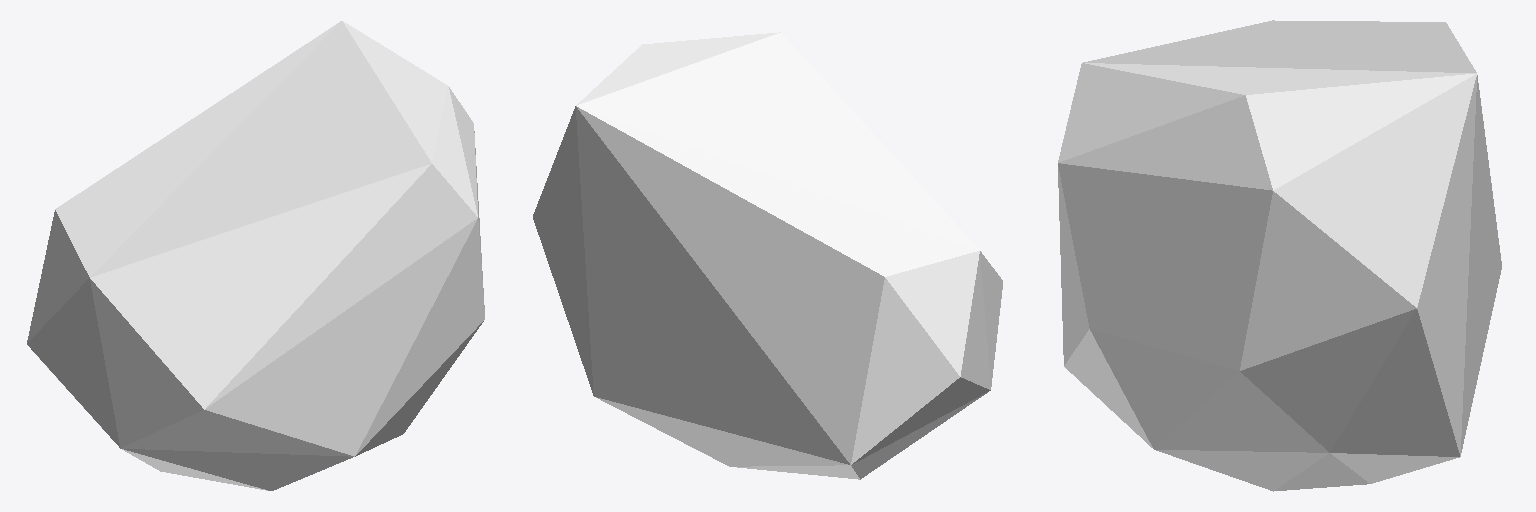
The robot description file, URDF, robot "hrp2_rleg_rom":
<robot name="hrp2_rleg_rom">
  <link name="base_link">
    <visual>
      <origin xyz="0 0 0" rpy="0 0 0.003" />
      <geometry>
        <mesh filename="package://hpp-rbprm-corba/meshes/hrp2_rleg_rom.stl"/>
      </geometry>
      <material name="white">
        <color rgba="1 1 1 1"/>
      </material>
    </visual>
    <collision>
      <origin xyz="0 0 0" rpy="0 0 0.003" />
      <geometry>
        <mesh filename="package://hpp-rbprm-corba/meshes/hrp2_rleg_rom.stl"/>
      </geometry>
    </collision>
  </link>
</robot>

--- What the picture shows (computed from the rendered views, not written in the file) ---
The picture shows the robot from 3 angles, left to right: view 1: azimuth 30°, elevation 25°; view 2: azimuth 150°, elevation 25°; view 3: azimuth 270°, elevation 25°; orthographic projection.
Robot: hrp2_rleg_rom — 1 links, 0 joints (none); root link base_link; default pose: all joints at 0.
Links seen in each view (by area): view 1: base_link; view 2: base_link; view 3: base_link.
Link boxes in pixels (x1,y1,x2,y2): base_link: (27,21,484,490); base_link: (533,32,1002,479); base_link: (1058,20,1501,491).
Bounding box of the posed robot: 1.26 × 0.8725 × 1.05 m (x, y, z).
1 mesh visuals loaded from 1 distinct referenced files (1 binary STL).